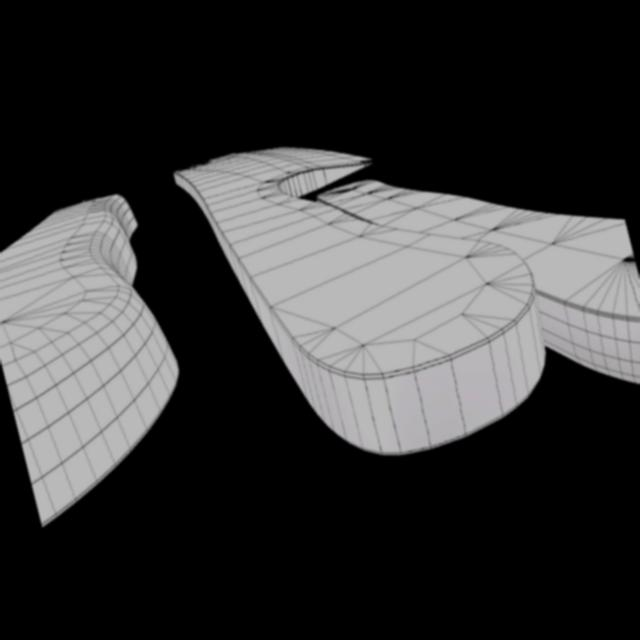cleaver: (165, 57, 640, 504)
